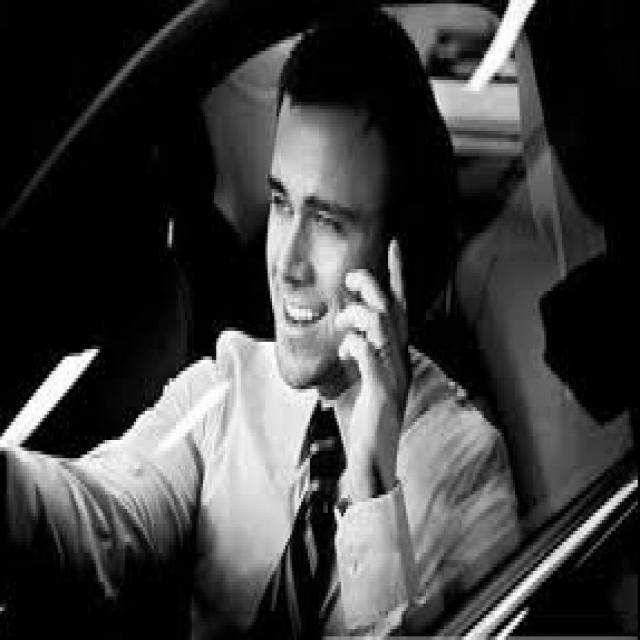phone: (312, 185, 437, 473)
